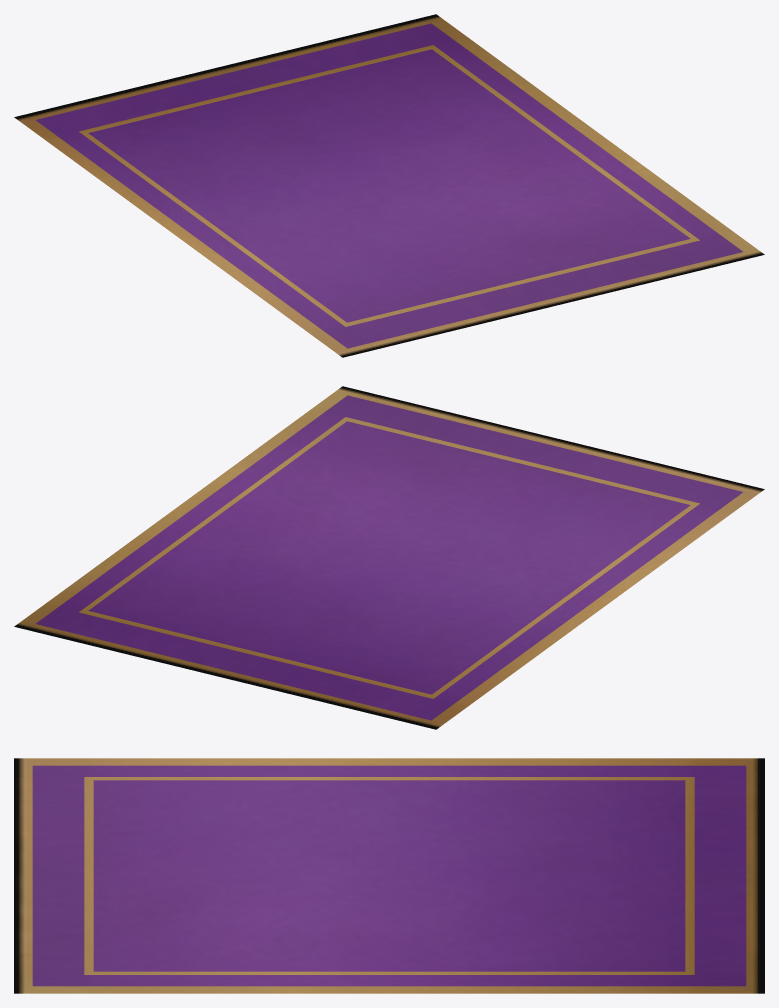
File: SM_flated_pillar_rug_04.fbx
3 views of the same model, one above another, from view 1: azimuth 30°, elevation 25°; view 2: azimuth 150°, elevation 25°; view 3: azimuth 270°, elevation 25° (orthographic). The views are drawn at different scales.
Visible parts, largest first — view 1: SM_flated_pillar_rug_04; view 2: SM_flated_pillar_rug_04; view 3: SM_flated_pillar_rug_04.
Boxes of the visible parts, x1,y1,x2,y2 form: SM_flated_pillar_rug_04: (14,14,764,357); SM_flated_pillar_rug_04: (14,386,764,729); SM_flated_pillar_rug_04: (14,758,764,993).
Size of the model in its own units: 2.96 by 0 by 3.99.
